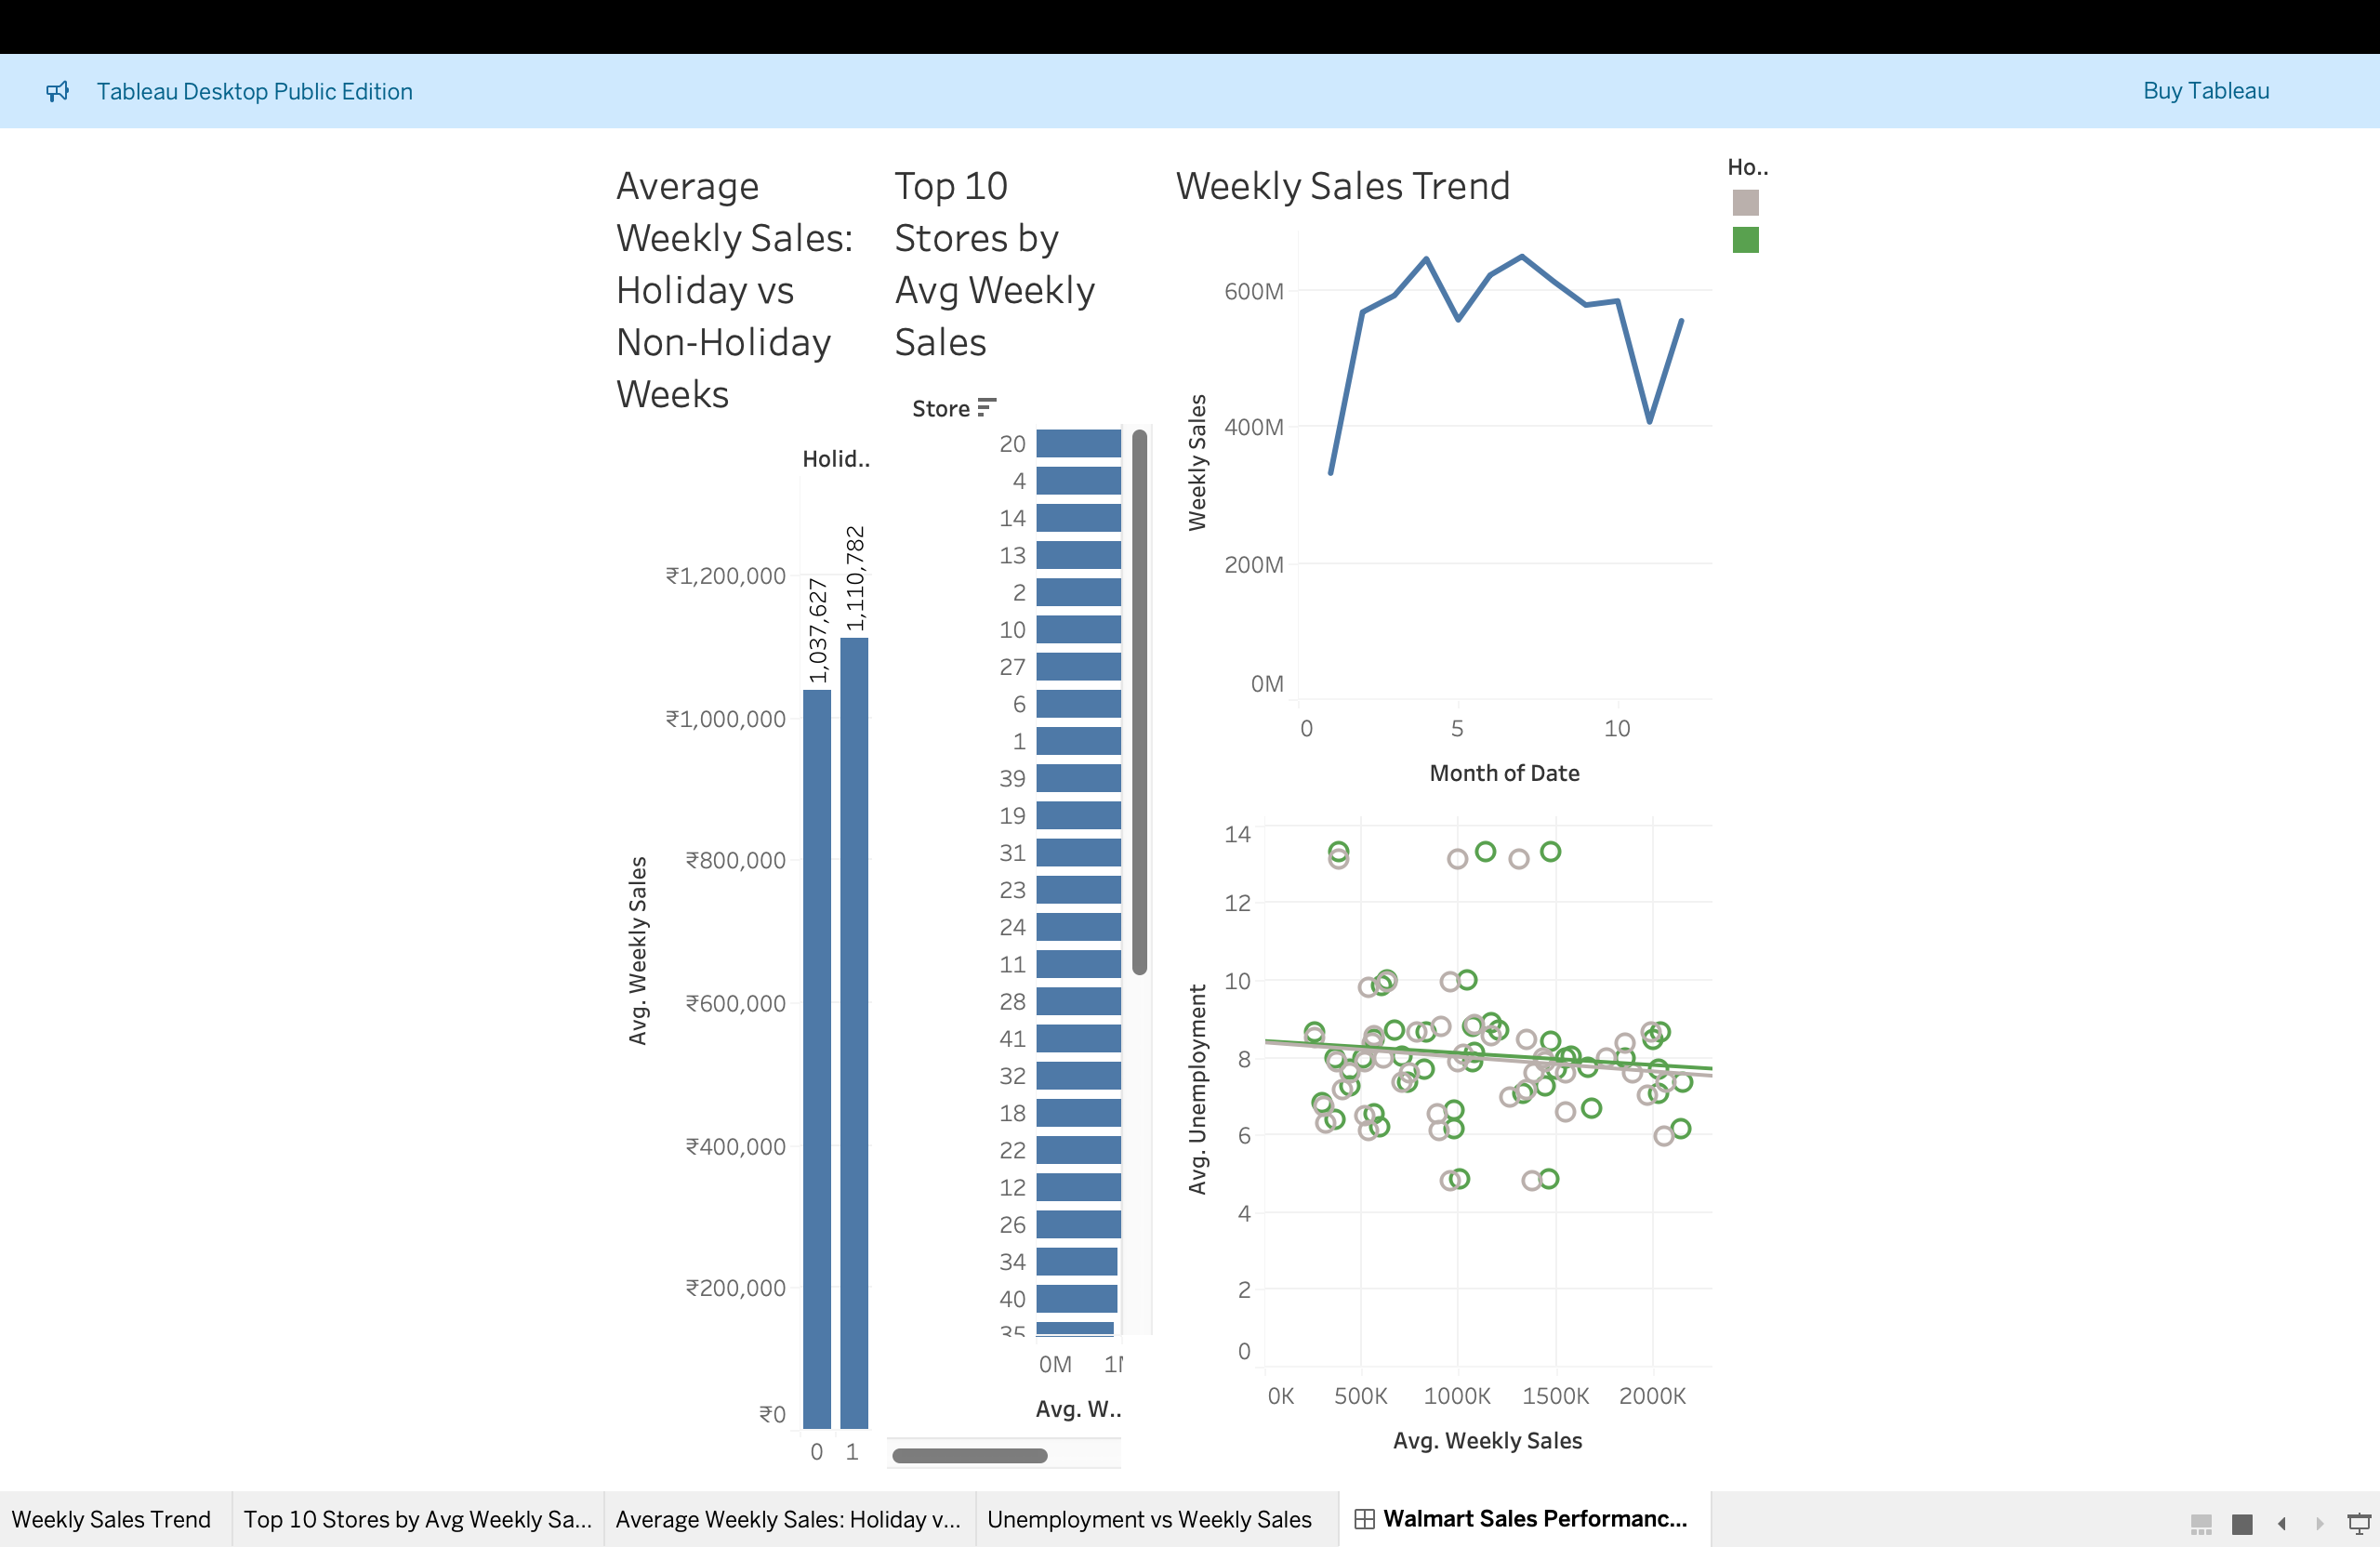

The page's visual inventory and layout, read from the dashboard file:
{"tool":"tableau","page":{"name":"Walmart Sales Performance Dashboard","canvas":[650,860],"ordinal":0},"visuals":[{"type":"worksheet","title":"Average Weekly Sales: Holiday vs Non-Holiday Weeks","mark":"Automatic","rows":["Weekly_Sales"],"cols":["Holiday_Flag"],"box":[12.1,12.2,96,835.6]},{"type":"worksheet","title":"Top 10 Stores by Avg Weekly Sales","mark":"Automatic","rows":["Store"],"cols":["Weekly_Sales"],"box":[108.1,12.2,96,835.6]},{"type":"worksheet","title":"Weekly Sales Trend","mark":"Automatic","rows":["Weekly_Sales"],"cols":["Date"],"box":[204.1,12.2,192,417.8]},{"type":"legend","title":"Unemployment vs Weekly Sales","param":"[federated.01wd04r1bjfq9m10c7nzh1ciftug].[none:Holiday_Flag:ok]","box":[396.1,12.2,241.9,100.8]},{"type":"worksheet","title":"Unemployment vs Weekly Sales","mark":"Automatic","rows":["Unemployment"],"cols":["Weekly_Sales"],"box":[204.1,430,192,417.8]}]}

Visuals, with their boxes on the page's 650x860 design canvas (x1, y1, x2, y2). These are canvas units, not pixel positions in the 2380x1547 screenshot, which may show the page scaled, cropped or inside an application window:
"Average Weekly Sales: Holiday vs Non-Holiday Weeks" worksheet: <region>12, 12, 108, 848</region>
"Top 10 Stores by Avg Weekly Sales" worksheet: <region>108, 12, 204, 848</region>
"Weekly Sales Trend" worksheet: <region>204, 12, 396, 430</region>
"Unemployment vs Weekly Sales" legend: <region>396, 12, 638, 113</region>
"Unemployment vs Weekly Sales" worksheet: <region>204, 430, 396, 848</region>
